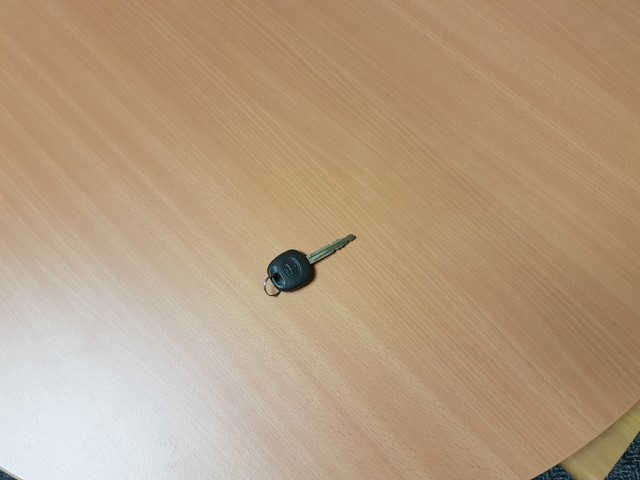key: (267, 232, 356, 292)
